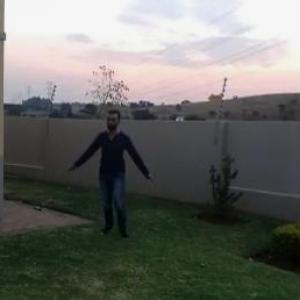land: (65, 107, 163, 245)
